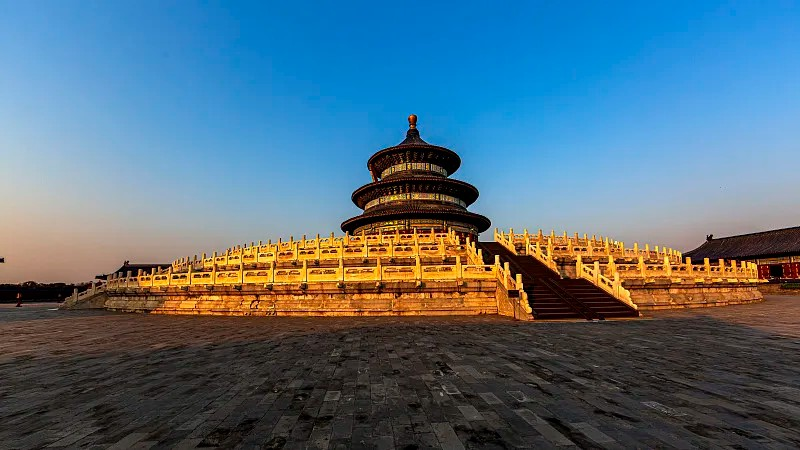Heaven: (340, 114, 493, 244)
